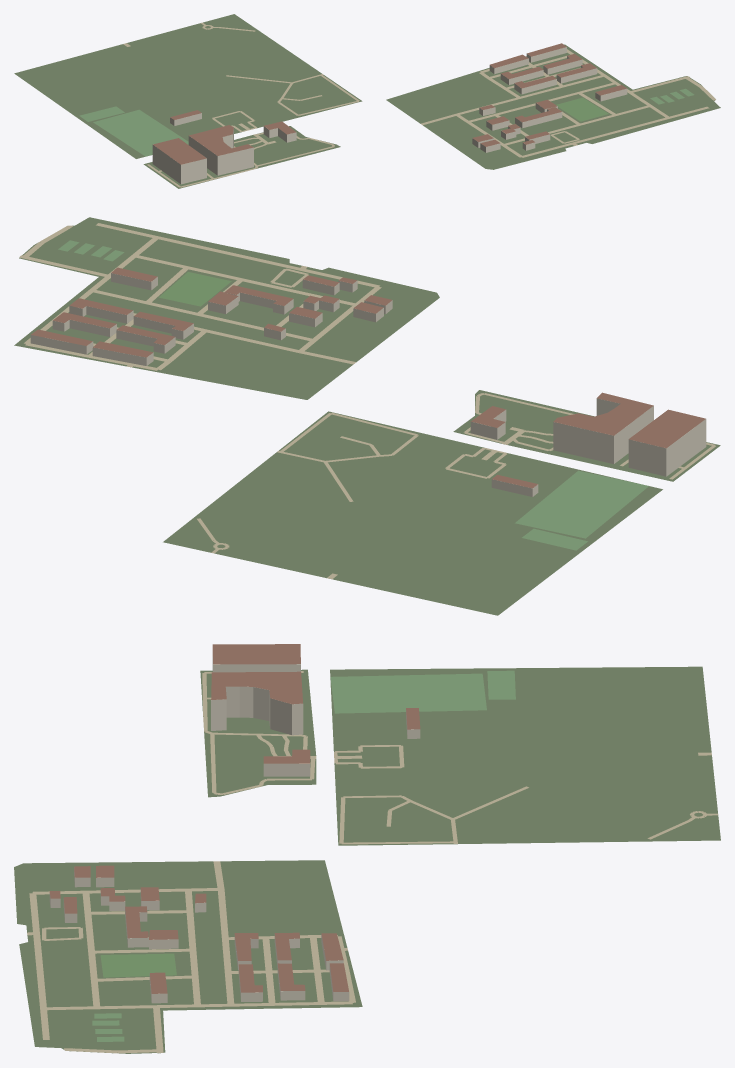
3 renders of one model, top to bottom at view 1: azimuth 30°, elevation 25°; view 2: azimuth 150°, elevation 25°; view 3: azimuth 270°, elevation 25°, orthographic. The views are drawn at different scales.
Visible parts, largest first — view 1: campus-ground, environment (×3), buildings, roofs; view 2: campus-ground, environment (×3), buildings, roofs; view 3: campus-ground, environment (×3), roofs, buildings.
Boxes of the visible parts, x1=… form: campus-ground: x1=14, y1=14, x2=720, y2=188; environment (×3): x1=79, y1=22, x2=715, y2=187; buildings: x1=152, y1=47, x2=627, y2=184; roofs: x1=153, y1=43, x2=626, y2=164; campus-ground: x1=14, y1=217, x2=720, y2=615; environment (×3): x1=19, y1=223, x2=715, y2=579; buildings: x1=30, y1=273, x2=706, y2=496; roofs: x1=31, y1=267, x2=705, y2=488; campus-ground: x1=14, y1=666, x2=720, y2=1053; environment (×3): x1=27, y1=670, x2=718, y2=1053; roofs: x1=49, y1=644, x2=420, y2=993; buildings: x1=49, y1=657, x2=420, y2=1003.
Bounding box in the file's own units: 1063 × 39.85 × 821.
